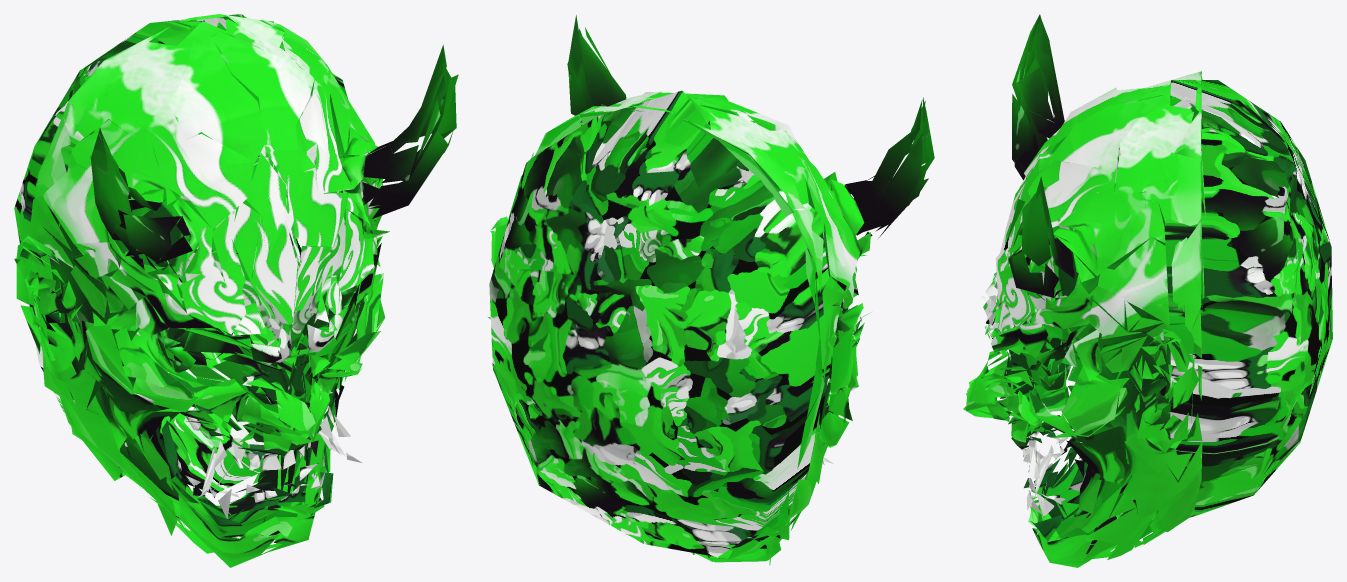
The model's file is boss5_skull.glb.
3 renders of one model, left to right at view 1: azimuth 30°, elevation 25°; view 2: azimuth 150°, elevation 25°; view 3: azimuth 270°, elevation 25°, orthographic. The views are drawn at different scales.
Parts seen in each view (by area): view 1: Boss5Skull; view 2: Boss5Skull; view 3: Boss5Skull.
Part boxes in pixels (bbox=[...]): Boss5Skull: bbox=[14, 14, 458, 567]; Boss5Skull: bbox=[487, 15, 934, 565]; Boss5Skull: bbox=[963, 14, 1332, 567].
Bounding box in the file's own units: 0.4801 × 0.6144 × 0.4314.
1 material, 1 textured.
